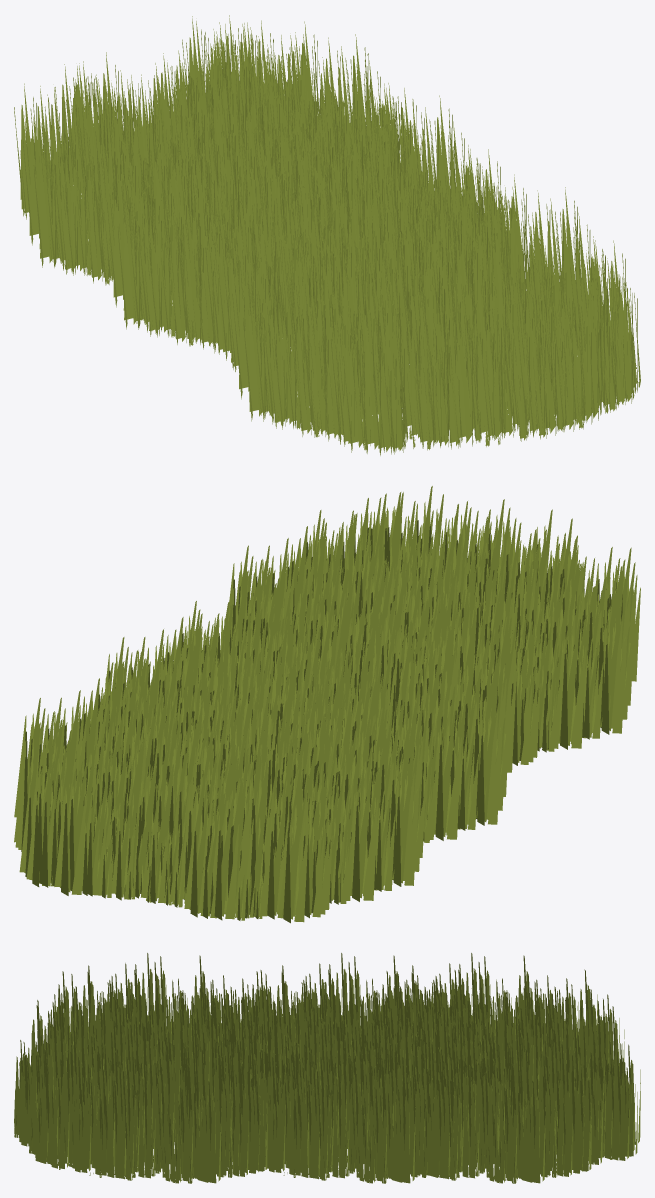
File: daun1.fbx
3 renders of one model, top to bottom at view 1: azimuth 30°, elevation 25°; view 2: azimuth 150°, elevation 25°; view 3: azimuth 270°, elevation 25°, orthographic. The views are drawn at different scales.
Parts seen in each view (by area): view 1: GrassGreen, GrassGreen.002, GrassGreen.001; view 2: GrassGreen.002, GrassGreen, GrassGreen.001; view 3: GrassGreen, GrassGreen.002, GrassGreen.001.
Boxes of the visible parts, x1,y1,x2,y2 form: GrassGreen: [223, 168, 640, 455]; GrassGreen.002: [14, 15, 428, 285]; GrassGreen.001: [98, 76, 512, 360]; GrassGreen.002: [14, 638, 432, 923]; GrassGreen: [228, 486, 640, 769]; GrassGreen.001: [104, 577, 516, 842]; GrassGreen: [14, 953, 316, 1183]; GrassGreen.002: [340, 953, 640, 1183]; GrassGreen.001: [209, 953, 510, 1183].
Bounding box in the file's own units: 255 × 87.52 × 481.
